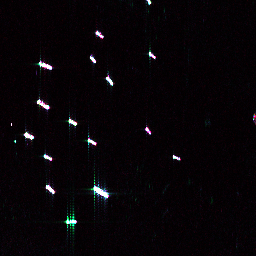ship: (90, 182, 111, 200), (34, 97, 51, 111), (36, 59, 54, 71), (43, 182, 57, 196), (103, 74, 116, 87), (65, 116, 79, 128), (22, 130, 35, 142), (41, 151, 54, 163), (146, 49, 158, 61), (85, 136, 98, 147), (93, 29, 105, 40), (142, 125, 153, 137), (87, 54, 97, 65), (171, 153, 182, 162), (65, 219, 78, 225)
